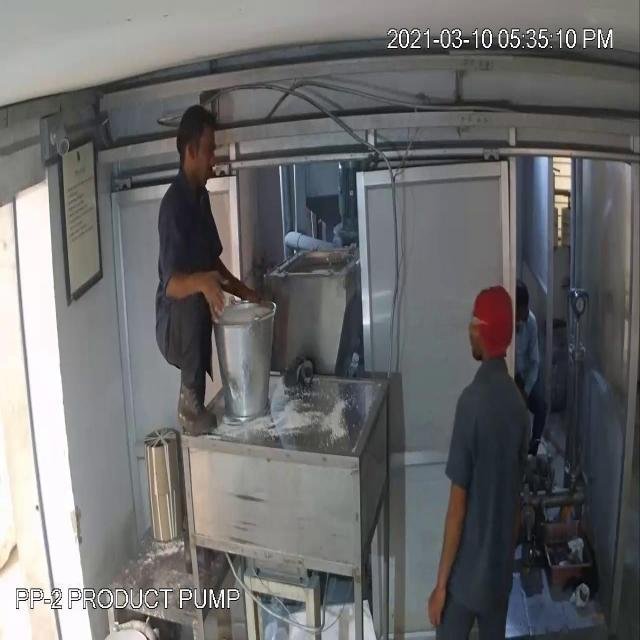No_Gloves: (45, 78, 450, 546)
